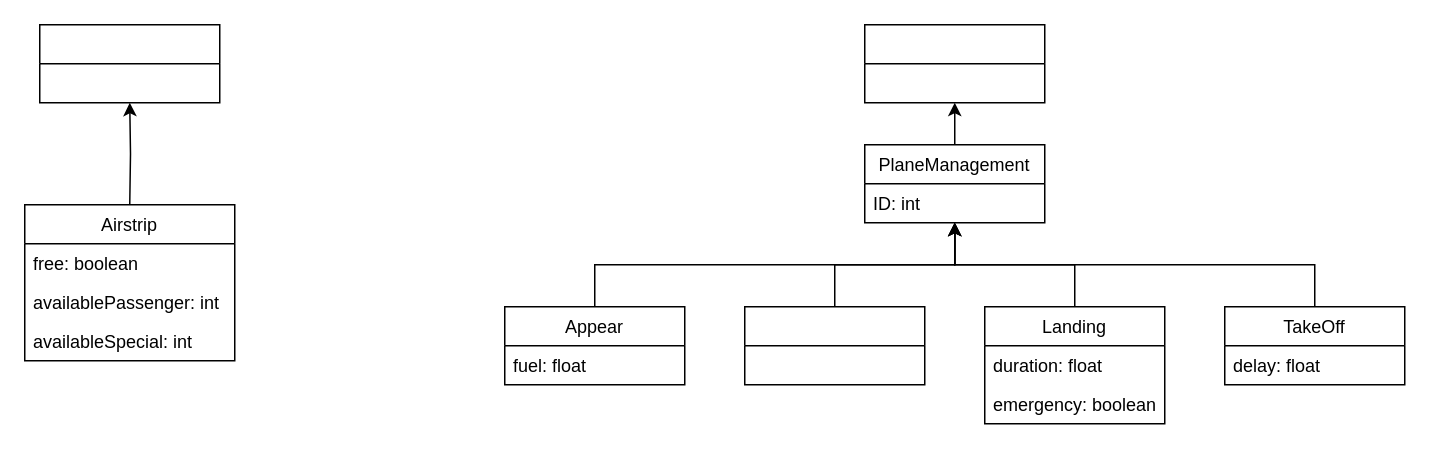
Some shapes in this 1430 by 449 pixel diagram are drawn without their labels. Here are the shapes that lost their labels. From the top down, the centre of each, then its label:
At (x=129, y=63): "HLAobjectRoot".
At (x=954, y=63): "HLAinteractionRoot".
At (x=834, y=345): "Forward".
